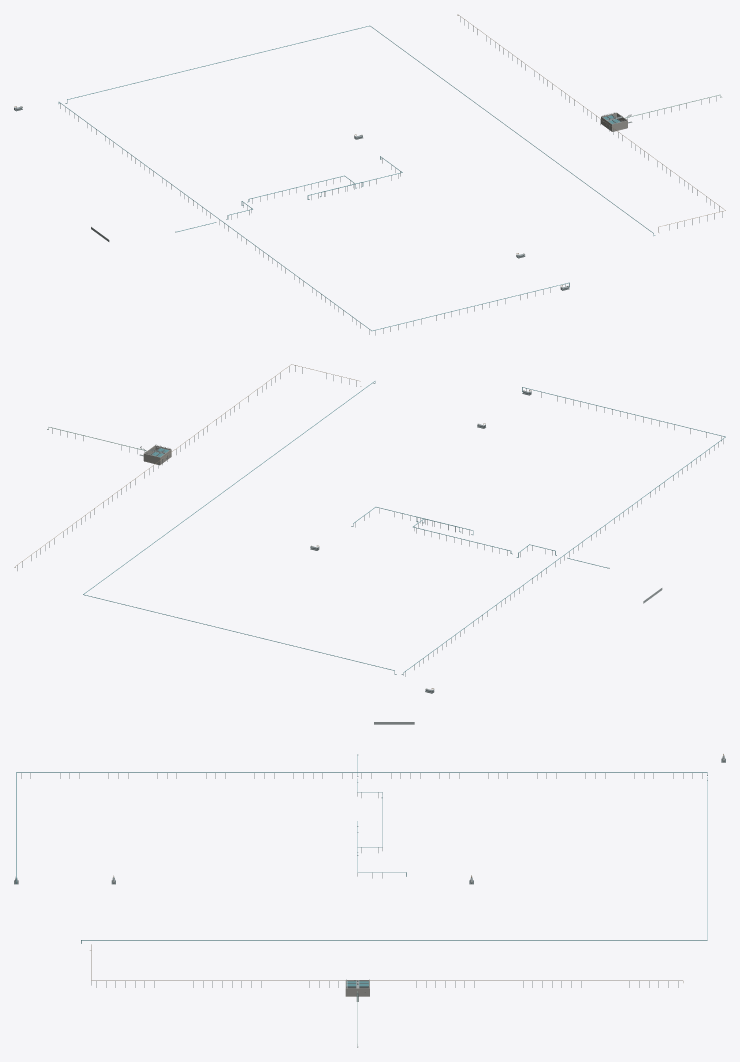
The picture shows the model from 3 angles, top to bottom: view 1: azimuth 30°, elevation 25°; view 2: azimuth 150°, elevation 25°; view 3: azimuth 270°, elevation 25°; orthographic projection. The views are drawn at different scales.
Parts seen in each view (by area): view 1: render-batch-0, render-batch-1; view 2: render-batch-0, render-batch-1; view 3: render-batch-0, render-batch-1, render-batch-5.
Part boxes in pixels (x1,y1,x2,y2): render-batch-0: (58, 25, 654, 330); render-batch-1: (14, 16, 722, 335); render-batch-0: (83, 381, 725, 675); render-batch-1: (17, 365, 723, 693); render-batch-0: (16, 754, 707, 986); render-batch-1: (14, 755, 725, 1047); render-batch-5: (90, 754, 723, 982).
Size of the model in its own units: 474 by 6.75 by 438.
